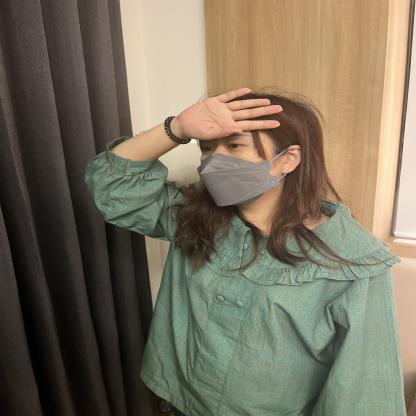Sick: (49, 39, 347, 222)
